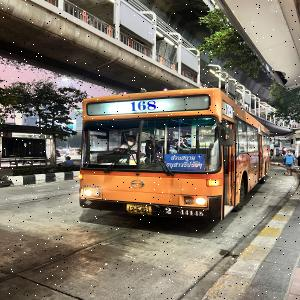BMTA-bus: (78, 89, 287, 222)
Bus Line Number: (127, 98, 159, 113)
Bus Side Number: (162, 206, 205, 218)
Destination Sign: (164, 154, 206, 172)
